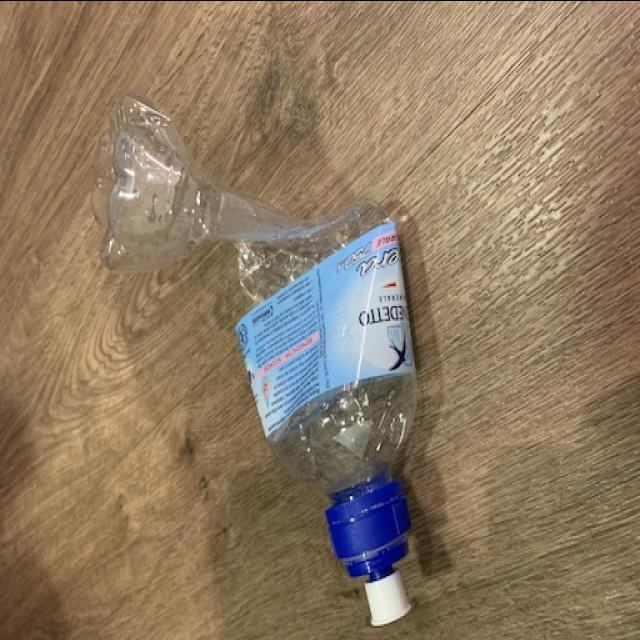litter: (91, 89, 430, 626)
